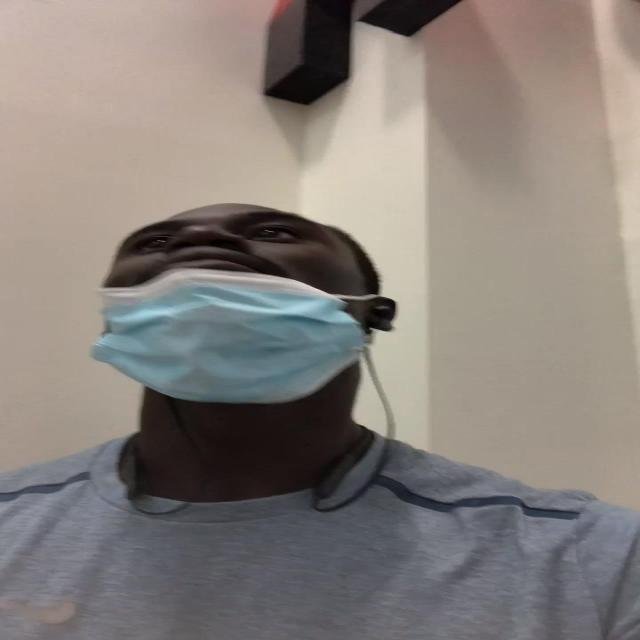face: (90, 205, 385, 405)
